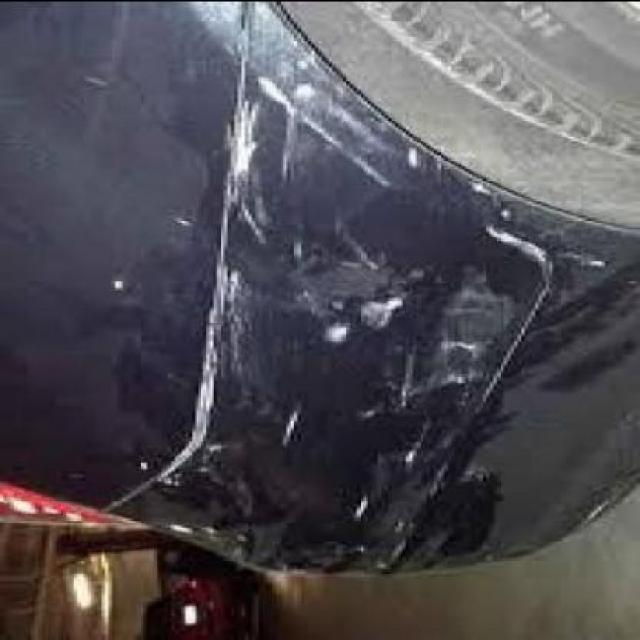damage: (140, 12, 256, 492), (256, 38, 418, 195), (276, 231, 423, 349), (392, 275, 509, 405), (471, 180, 614, 284)
